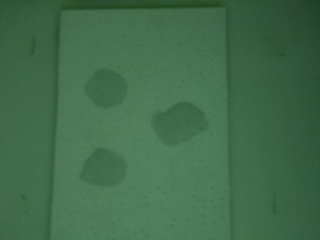Water_detected: (156, 103, 206, 146), (82, 153, 123, 191), (81, 75, 122, 112)
